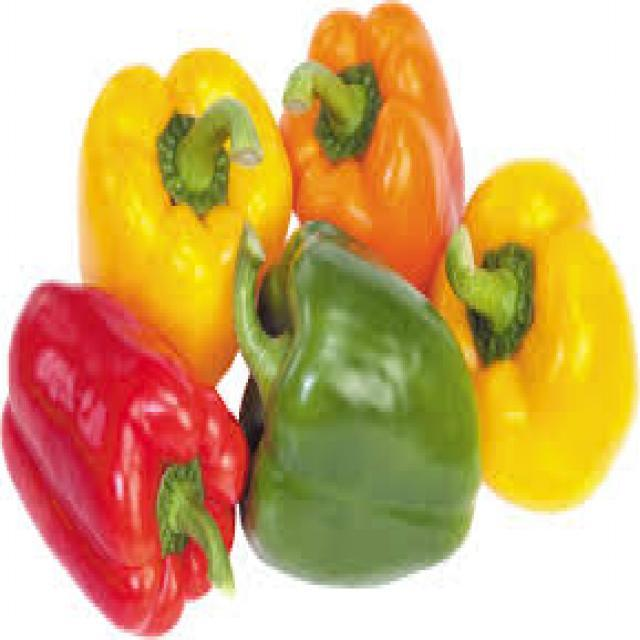Pepper: (234, 222, 482, 590), (0, 282, 250, 639), (77, 49, 292, 390), (438, 158, 639, 514), (281, 3, 466, 302)
